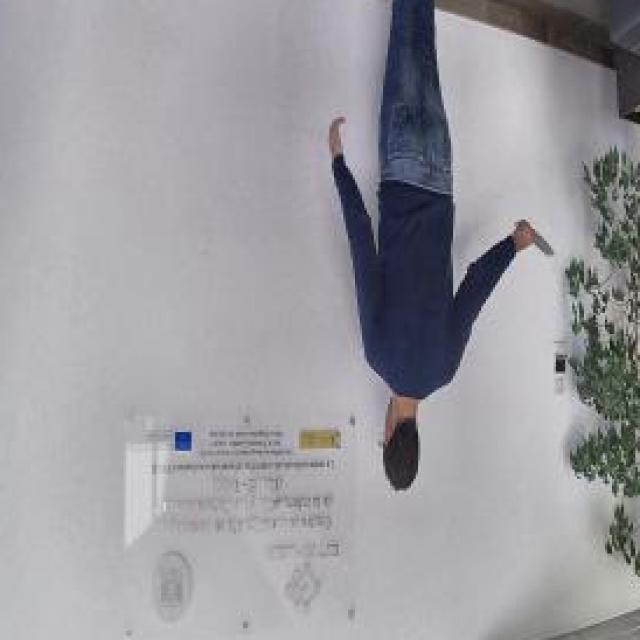knife: (512, 217, 558, 264)
